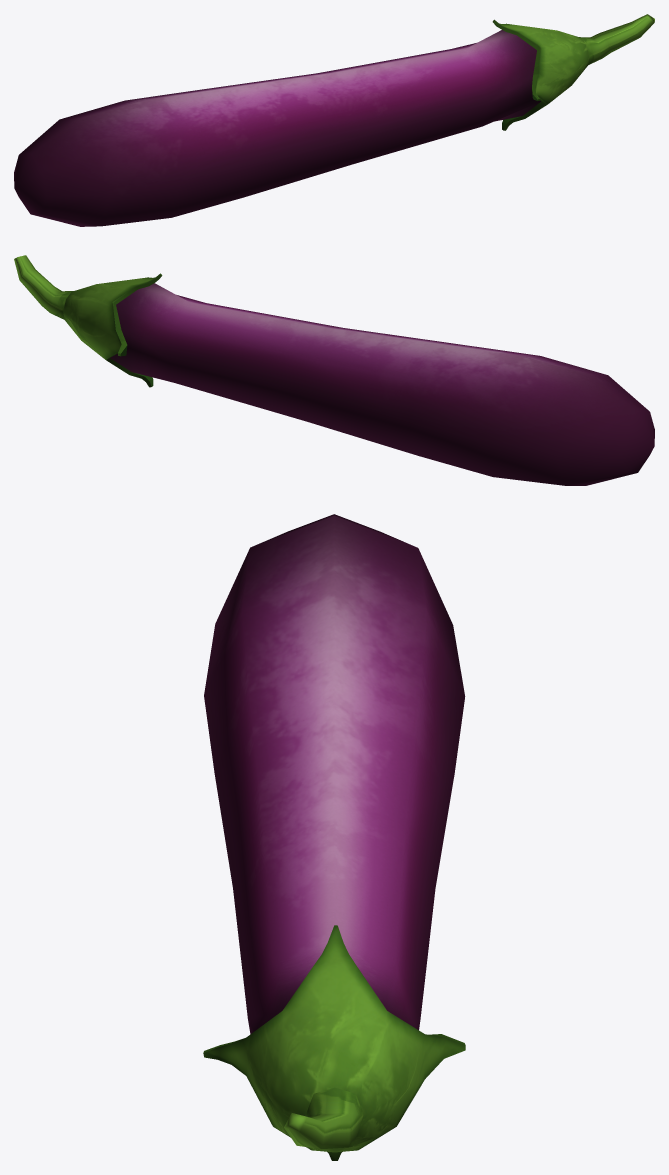
File: Eggplant_Long.fbx
3 views of the same model, one above another, from view 1: azimuth 30°, elevation 25°; view 2: azimuth 150°, elevation 25°; view 3: azimuth 270°, elevation 25° (orthographic). The views are drawn at different scales.
Parts seen in each view (by area): view 1: Eggplant_Long; view 2: Eggplant_Long; view 3: Eggplant_Long.
Boxes of the visible parts, left/top/right/bottom form: Eggplant_Long: left=14, top=14, right=654, bottom=226; Eggplant_Long: left=14, top=255, right=654, bottom=485; Eggplant_Long: left=203, top=514, right=465, bottom=1160.
Bounding box in the file's own units: 125 × 22.49 × 22.54.
